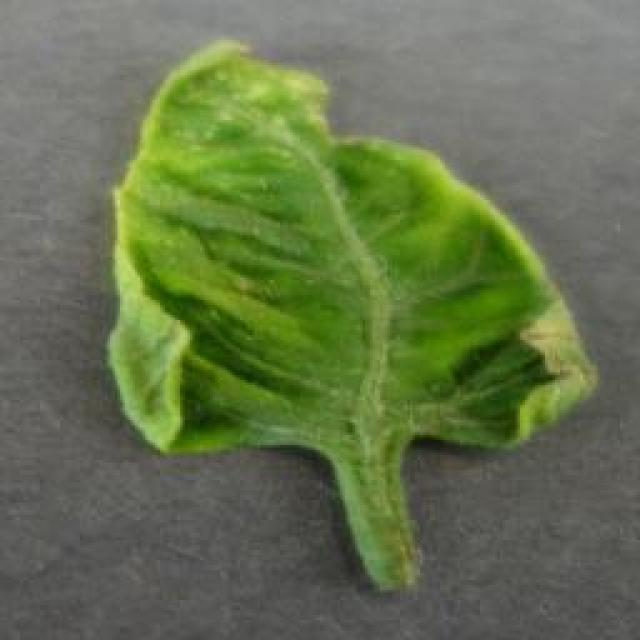Tomato yellow virus leaf: (105, 35, 602, 452)
